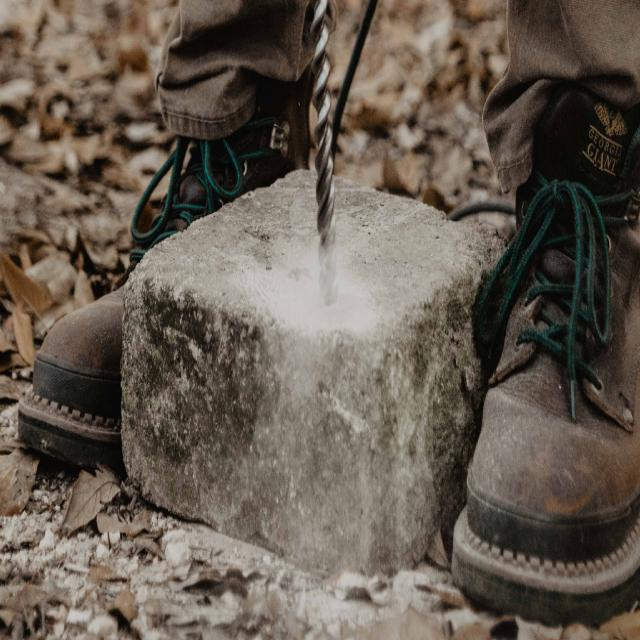shoes: (12, 84, 321, 486), (438, 48, 640, 617)
